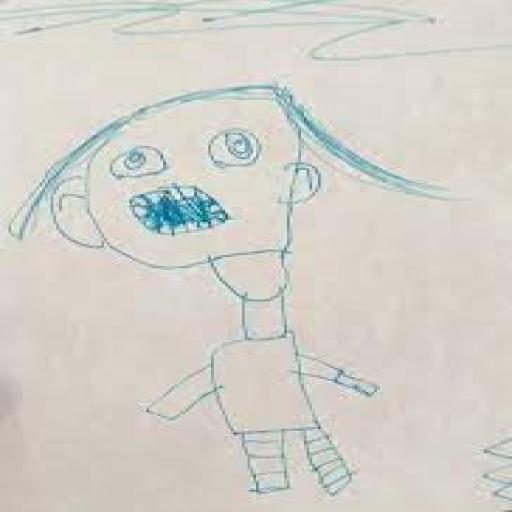person: (15, 67, 481, 502)
